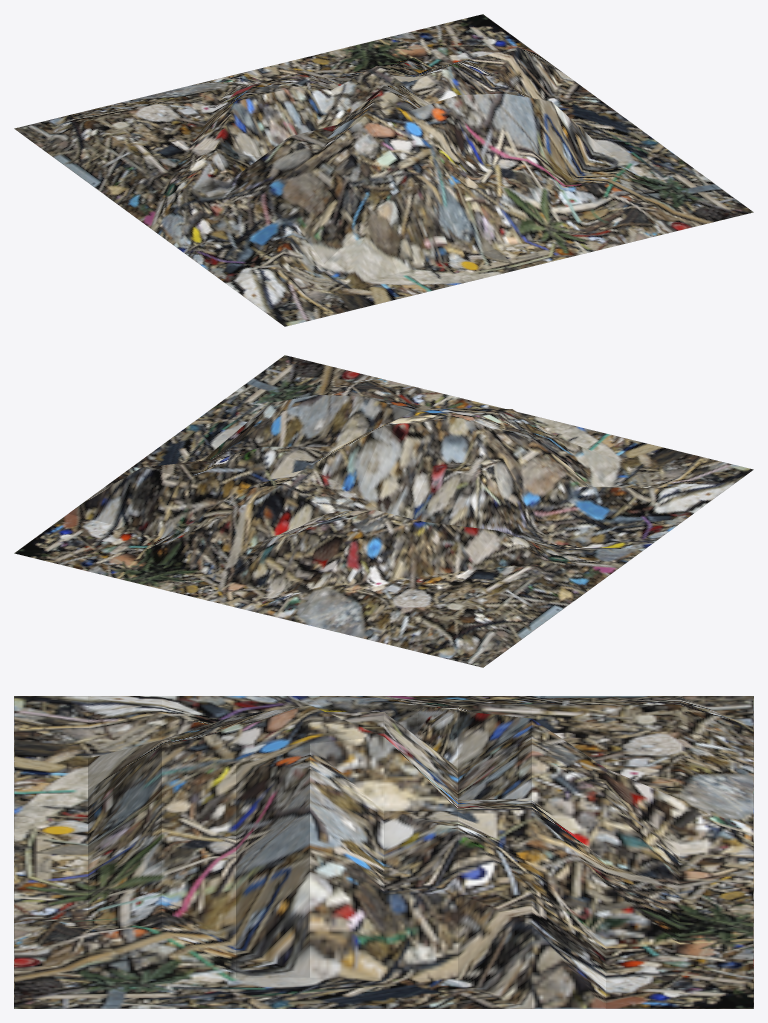
The model's file is rubbish.fbx.
The picture shows the model from 3 angles, top to bottom: view 1: azimuth 30°, elevation 25°; view 2: azimuth 150°, elevation 25°; view 3: azimuth 270°, elevation 25°; orthographic projection. The views are drawn at different scales.
Visible parts, largest first — view 1: rubbish; view 2: rubbish; view 3: rubbish.
Boxes of the visible parts, box(x1,y1,x2,y2) form: rubbish: box(14, 14, 753, 326); rubbish: box(14, 355, 753, 667); rubbish: box(14, 696, 753, 1008).
Size of the model in its own units: 750 by 129 by 750.
